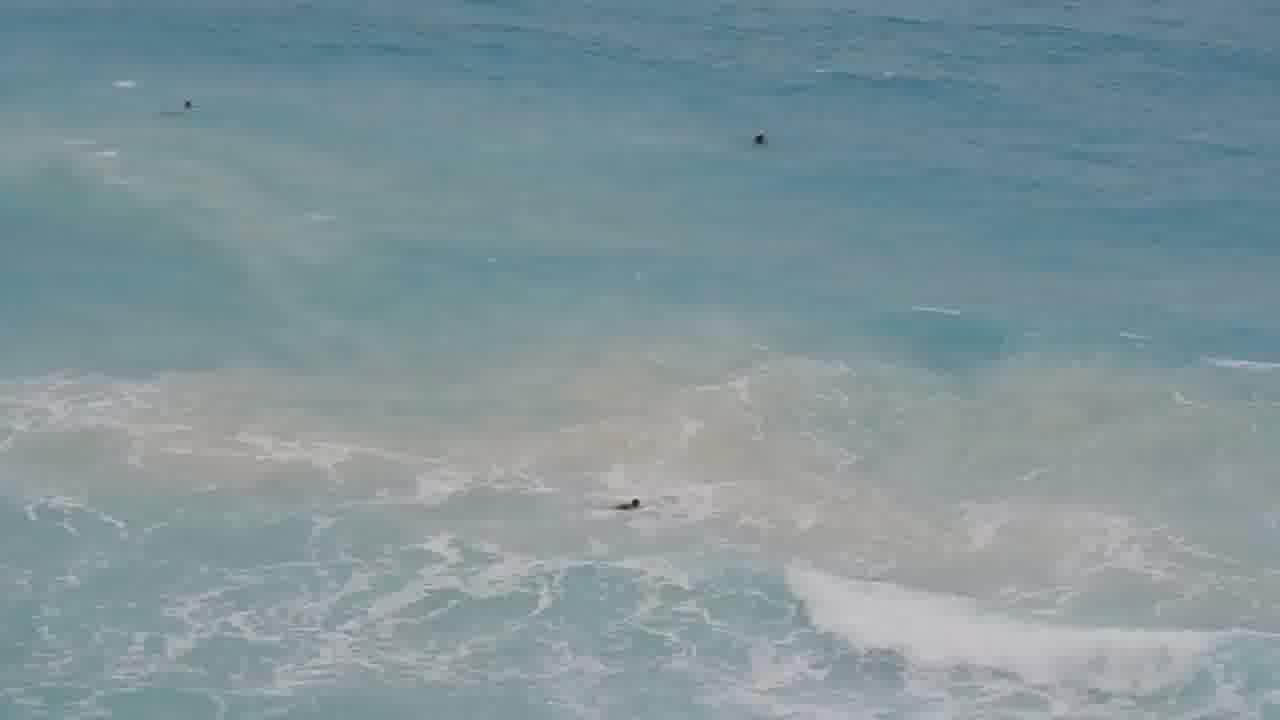swimmer: (602, 473, 656, 520), (157, 88, 212, 130), (738, 121, 787, 160)
